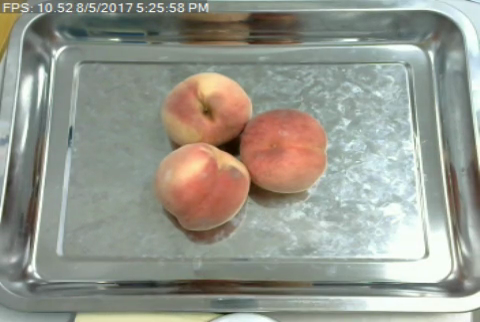Peach: (156, 142, 248, 232), (240, 107, 328, 193), (160, 70, 252, 150)
